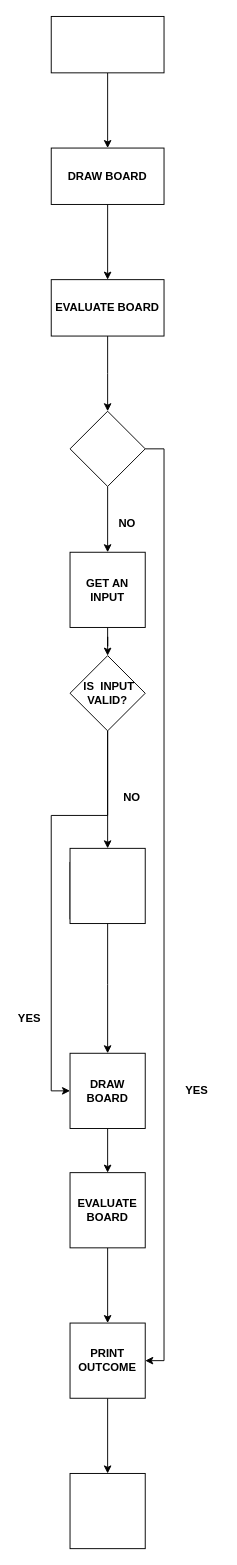
Some shapes in this 237 by 1565 pixel diagram are drawn without their labels. Here are the shapes that lost their labels. From the top down, the centre of each, then its label:
(x=107, y=44): PRINT WELCOME to TIC TAC TOE
(x=107, y=448): GAME OVER ?
(x=107, y=885): PROMPT TILL WE GET A VALID INPUT
(x=107, y=1511): HALT
